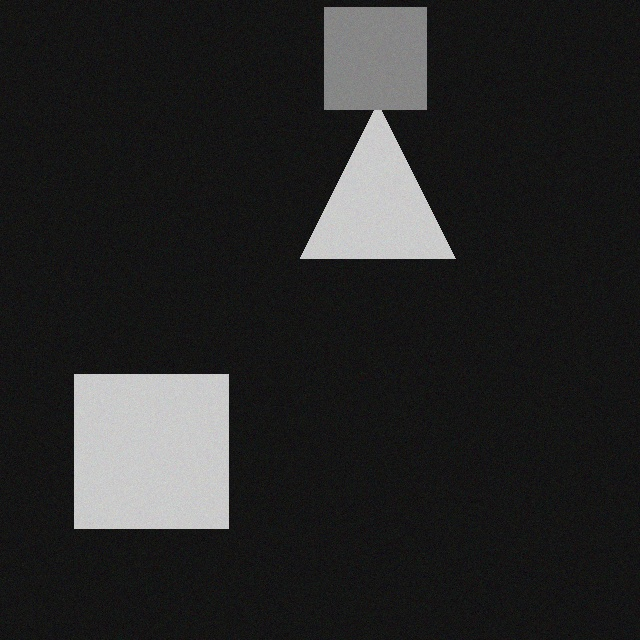square: (60, 382, 214, 536), (310, 15, 412, 117)
triangle: (286, 111, 441, 266)
